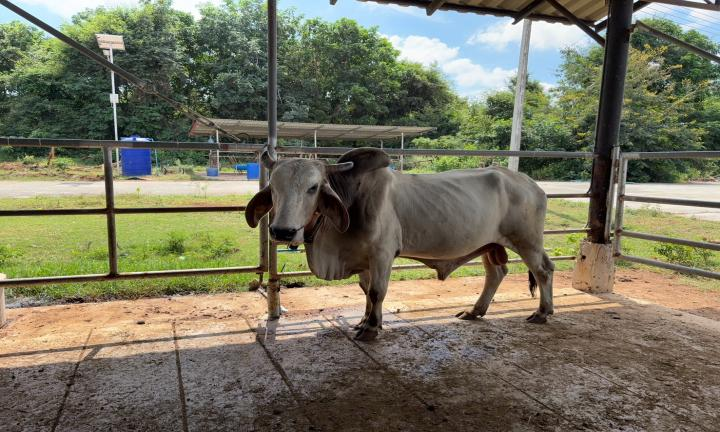Brahman: (246, 148, 554, 340)
